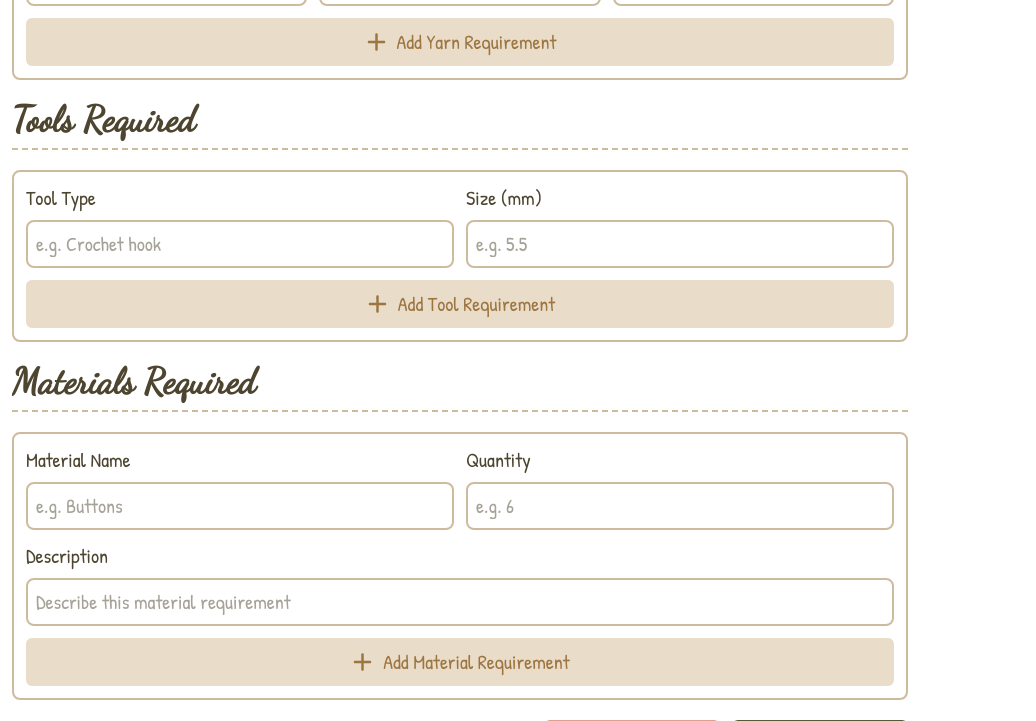
it: AdminAddPattern material requirements › validates materials without validating the pattern fields
(page scrolled)
Click the button "Add Material Requirement" at (460, 662), box x1=26 y1=638 x2=894 y2=686
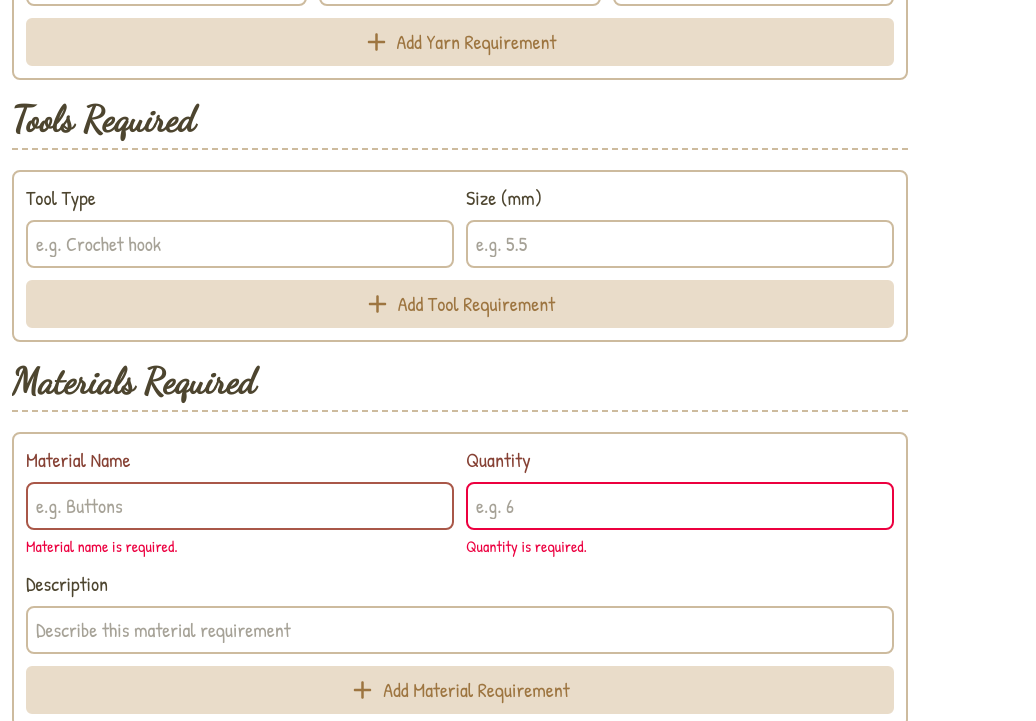
Check: the text "Material name is required." is shown, box x1=26 y1=535 x2=178 y2=557
Check: the text "Quantity is required." is shown, box x1=466 y1=535 x2=587 y2=557
